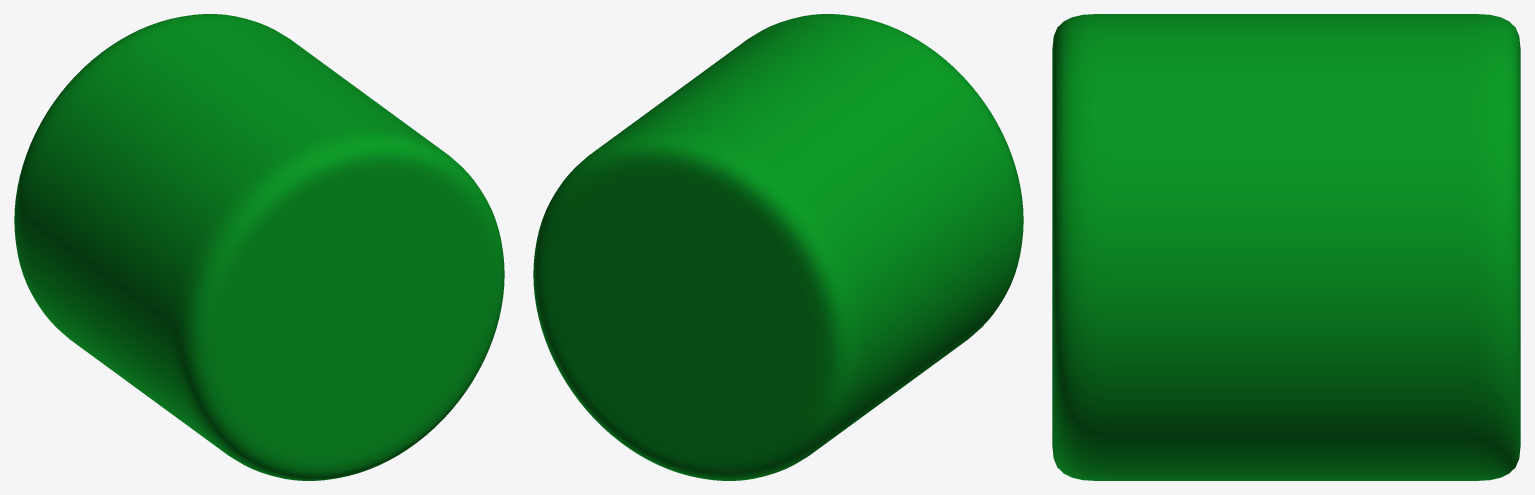
3 renders of one model, left to right at view 1: azimuth 30°, elevation 25°; view 2: azimuth 150°, elevation 25°; view 3: azimuth 270°, elevation 25°, orthographic. The views are drawn at different scales.
Parts seen in each view (by area): view 1: cylinder; view 2: cylinder; view 3: cylinder.
Boxes of the visible parts, x1,y1,x2,y2 form: cylinder: (14, 14, 504, 480); cylinder: (533, 14, 1023, 480); cylinder: (1052, 14, 1520, 480).
Bounding box in the file's own units: 281 × 281 × 282.
